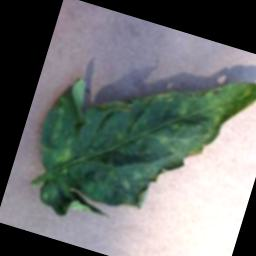Leaf_Mold: (19, 22, 256, 256)
